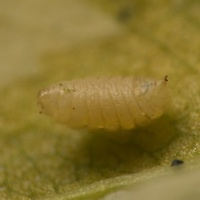insect: (38, 75, 169, 130)
